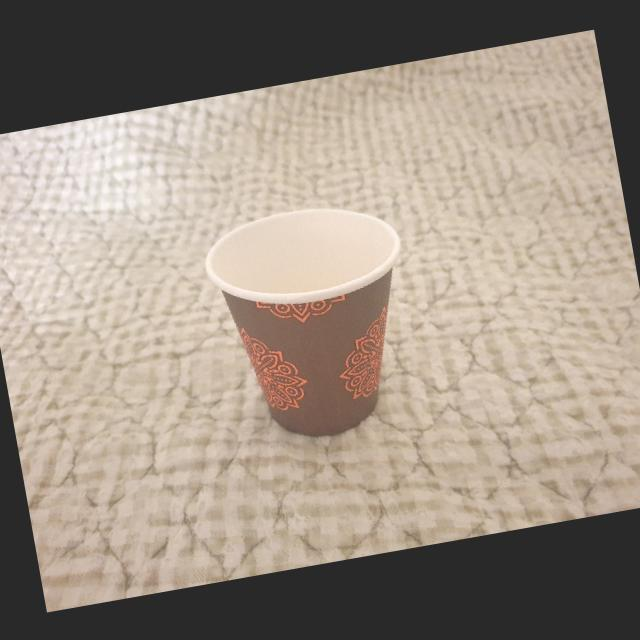trash: (194, 184, 438, 454)
